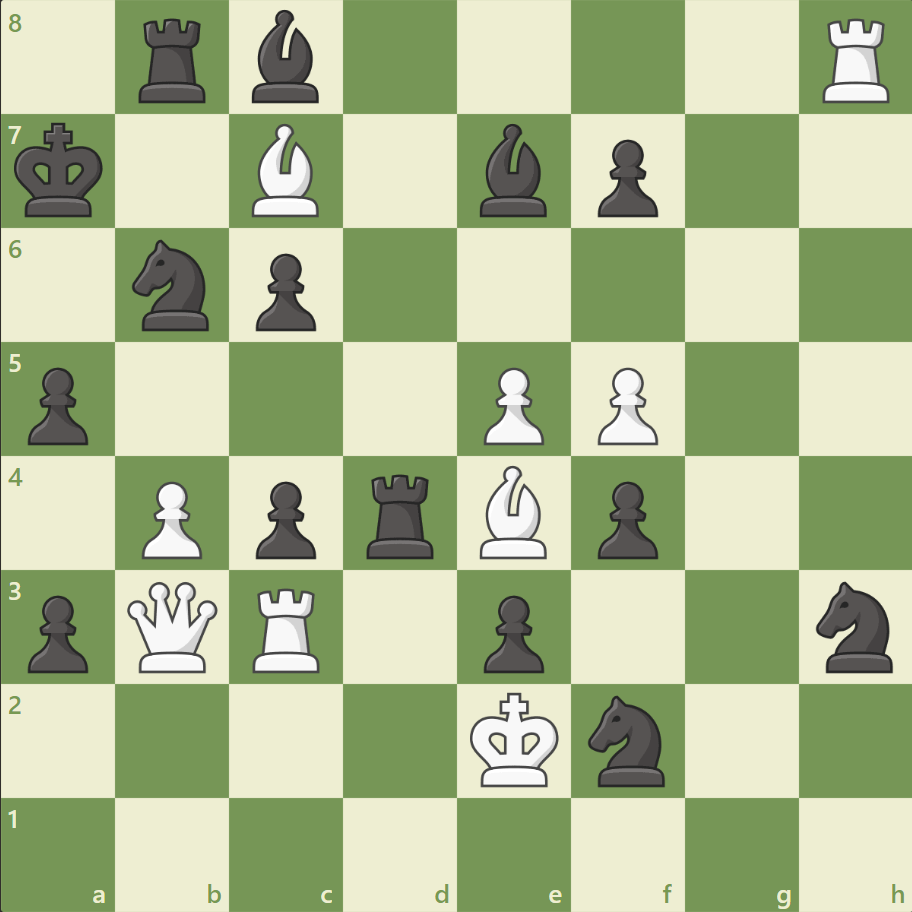B: (471, 460, 555, 563), (244, 120, 328, 222)
K: (465, 685, 565, 793)
P: (474, 359, 549, 450), (133, 473, 208, 564), (588, 359, 662, 450)
Q: (124, 576, 223, 676)
R: (814, 12, 897, 109), (246, 579, 329, 676)
b: (244, 6, 328, 109), (471, 120, 555, 222)
k: (11, 117, 111, 225)
n: (124, 234, 222, 337), (579, 688, 676, 791), (806, 575, 903, 677)
p: (247, 246, 322, 337), (20, 359, 95, 450), (247, 473, 322, 564), (20, 586, 95, 677), (474, 586, 549, 677), (588, 132, 662, 223), (588, 473, 662, 564)
r: (133, 12, 215, 109), (360, 466, 442, 563)
